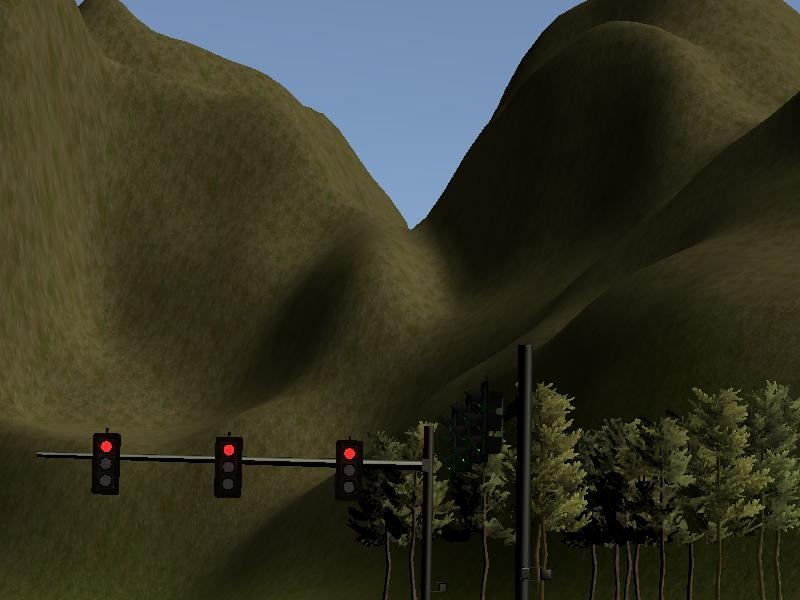red: (214, 438, 243, 498), (333, 440, 361, 501), (92, 432, 116, 496)
